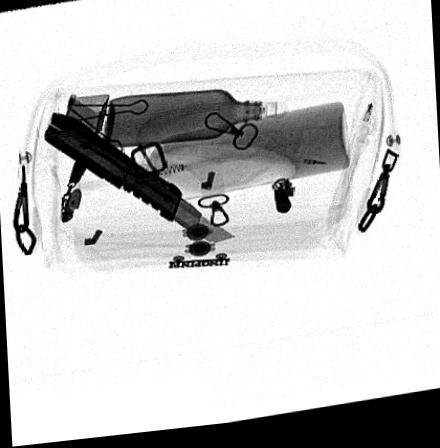Knife: (41, 112, 237, 249)
